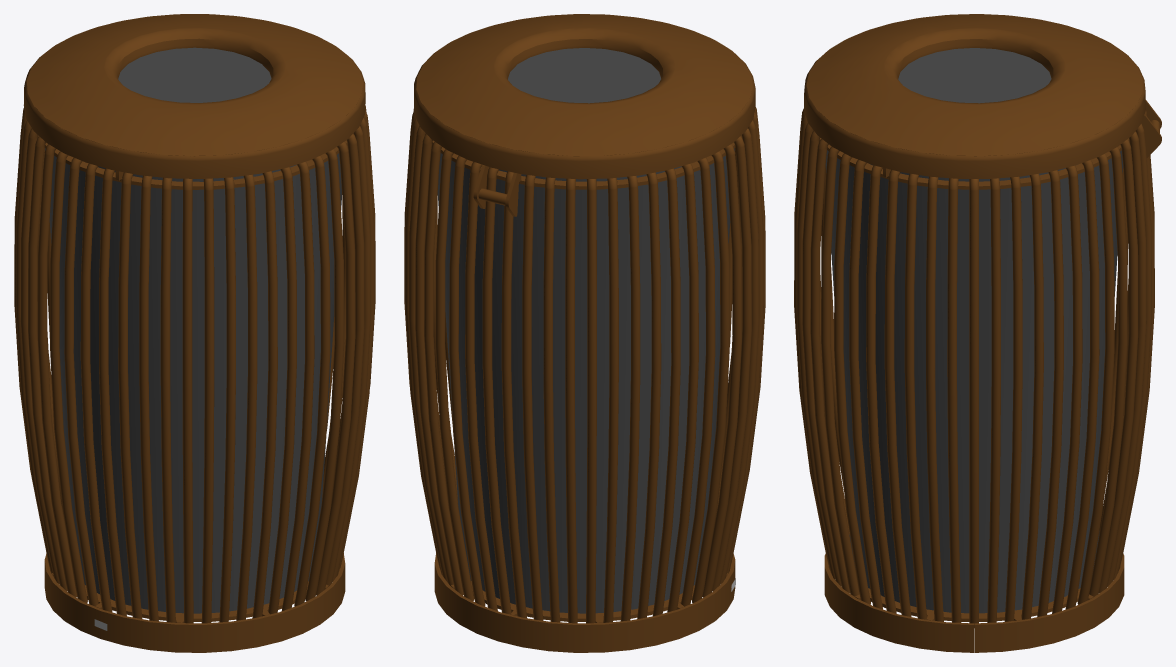
3 renders of one model, left to right at view 1: azimuth 30°, elevation 25°; view 2: azimuth 150°, elevation 25°; view 3: azimuth 270°, elevation 25°, orthographic.
Parts seen in each view (by area): view 1: mesh1_mesh1-geometry, mesh45_mesh45-geometry, mesh9_mesh9-geometry, mesh43_mesh43-geometry, mesh4_mesh4-geometry, mesh26_mesh26-geometry; view 2: mesh1_mesh1-geometry, mesh45_mesh45-geometry, mesh9_mesh9-geometry, mesh43_mesh43-geometry, mesh4_mesh4-geometry, mesh26_mesh26-geometry; view 3: mesh1_mesh1-geometry, mesh45_mesh45-geometry, mesh9_mesh9-geometry, mesh43_mesh43-geometry, mesh4_mesh4-geometry, mesh26_mesh26-geometry.
Boxes of the visible parts, <box> form: mesh1_mesh1-geometry: <box>14,105,375,623</box>; mesh45_mesh45-geometry: <box>45,47,342,613</box>; mesh9_mesh9-geometry: <box>23,14,365,178</box>; mesh43_mesh43-geometry: <box>44,553,345,652</box>; mesh4_mesh4-geometry: <box>38,135,347,189</box>; mesh26_mesh26-geometry: <box>52,573,328,622</box>; mesh1_mesh1-geometry: <box>404,107,765,623</box>; mesh45_mesh45-geometry: <box>437,48,734,613</box>; mesh9_mesh9-geometry: <box>414,14,755,179</box>; mesh43_mesh43-geometry: <box>434,553,735,652</box>; mesh4_mesh4-geometry: <box>432,135,741,189</box>; mesh26_mesh26-geometry: <box>451,573,727,622</box>; mesh1_mesh1-geometry: <box>794,108,1154,627</box>; mesh45_mesh45-geometry: <box>825,48,1123,613</box>; mesh9_mesh9-geometry: <box>804,14,1145,178</box>; mesh43_mesh43-geometry: <box>824,553,1124,652</box>; mesh4_mesh4-geometry: <box>819,138,1129,189</box>; mesh26_mesh26-geometry: <box>855,588,1093,621</box>.
Bounding box in the file's own units: 0.4671 × 0.7456 × 0.4752.
